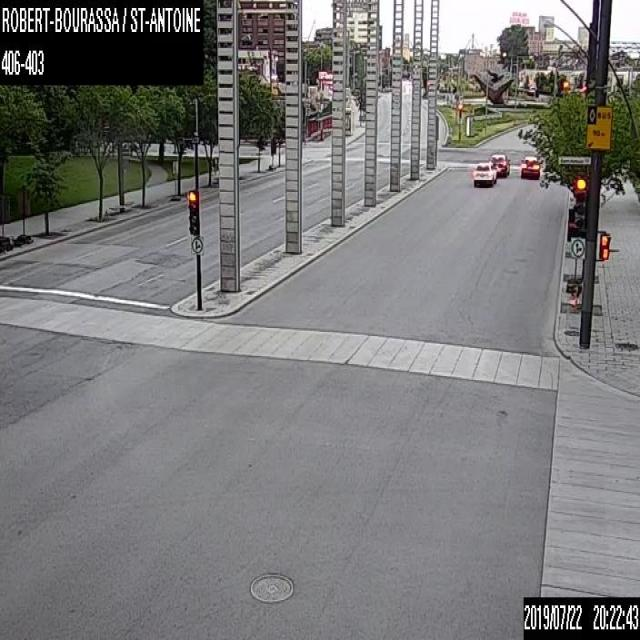vehicle: (472, 160, 497, 187), (488, 152, 510, 176), (519, 154, 539, 178)
